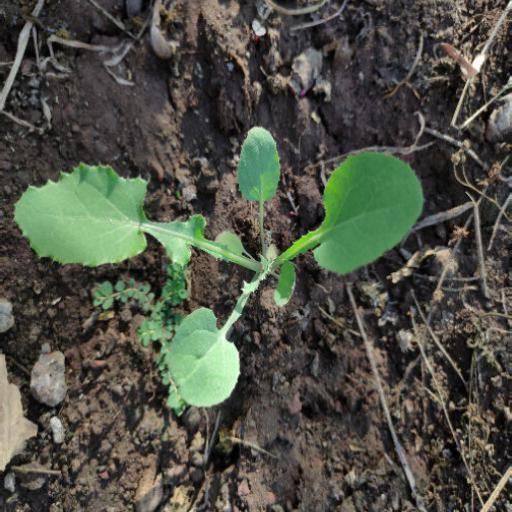weed: (12, 117, 434, 408)
